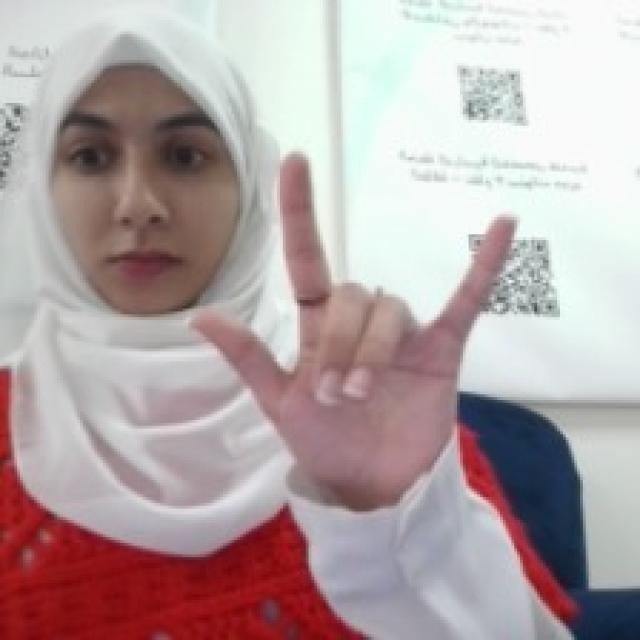love: (186, 146, 520, 480)
